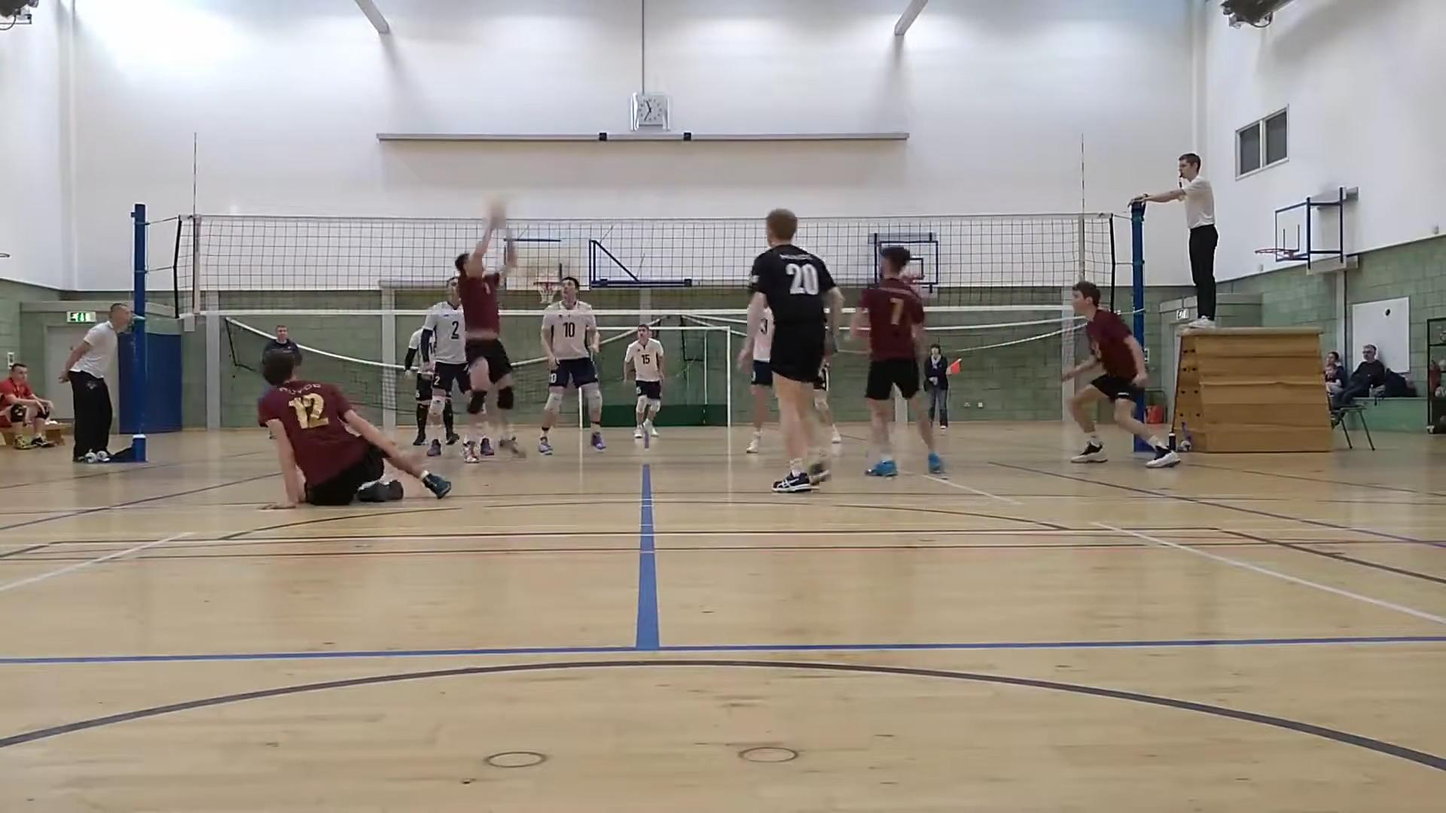Player: (258, 351, 450, 507), (739, 209, 842, 492), (1063, 281, 1179, 467), (850, 246, 943, 476), (538, 276, 605, 455), (419, 279, 469, 444), (624, 324, 664, 438), (745, 308, 773, 453), (404, 328, 435, 446), (813, 361, 842, 444)
Set: (450, 200, 526, 462)
